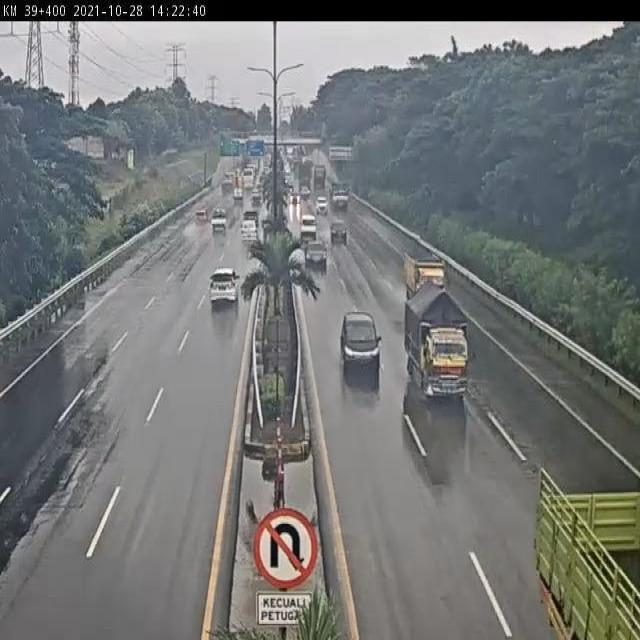truck-s-: (404, 279, 471, 400), (402, 249, 446, 303)
